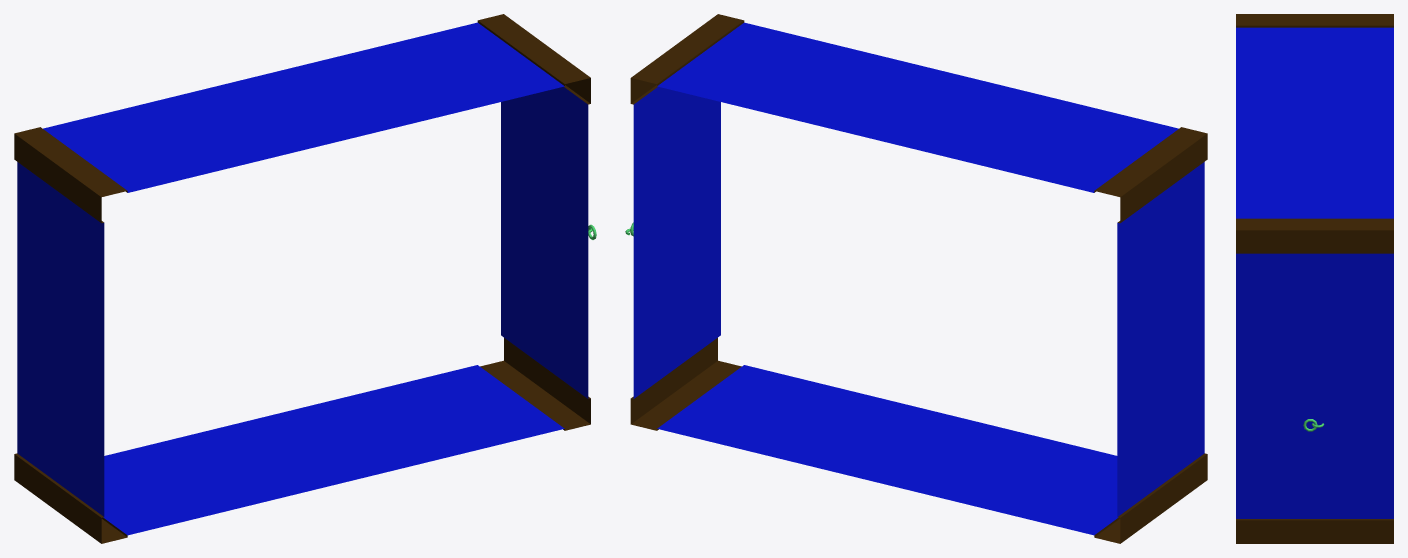
File: MedievalBank_Bottom.fbx
The picture shows the model from 3 angles, left to right: view 1: azimuth 30°, elevation 25°; view 2: azimuth 150°, elevation 25°; view 3: azimuth 270°, elevation 25°; orthographic projection. The views are drawn at different scales.
Parts seen in each view (by area): view 1: Cube.000; view 2: Cube.000; view 3: Cube.000.
Boxes of the visible parts, x1=… form: Cube.000: x1=14, y1=14, x2=596, y2=543; Cube.000: x1=625, y1=14, x2=1207, y2=543; Cube.000: x1=1236, y1=14, x2=1393, y2=543.
Size of the model in its own units: 1765 by 1091 by 498.
